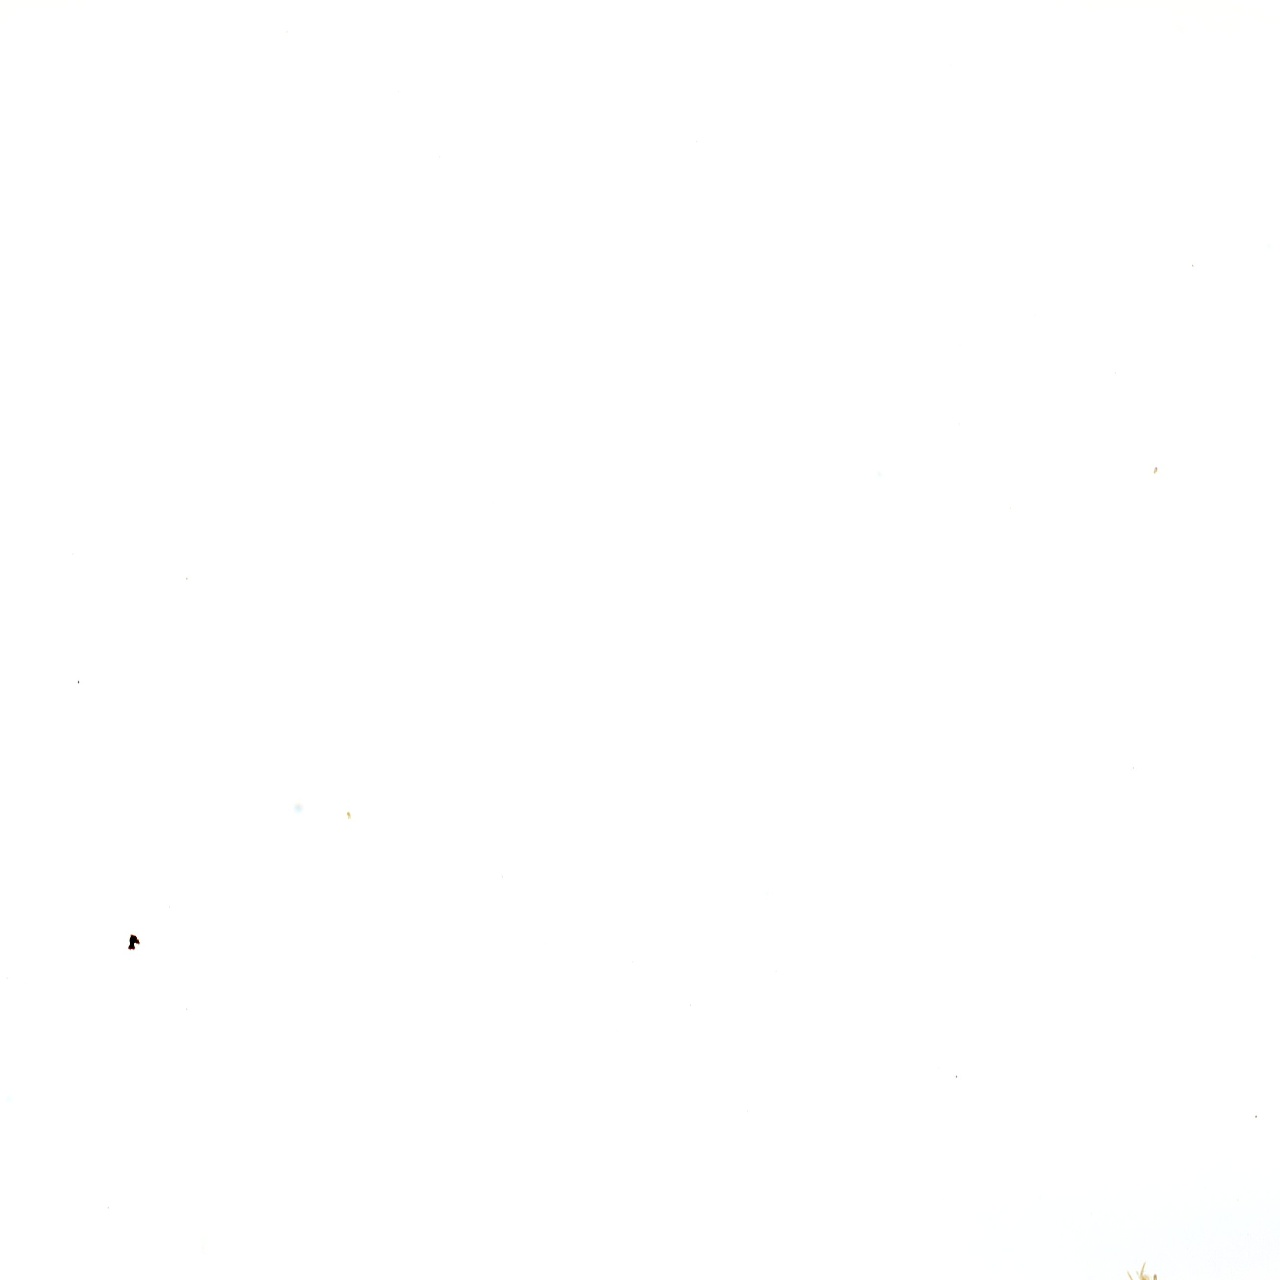arthropod: (1118, 1253, 1183, 1280)
